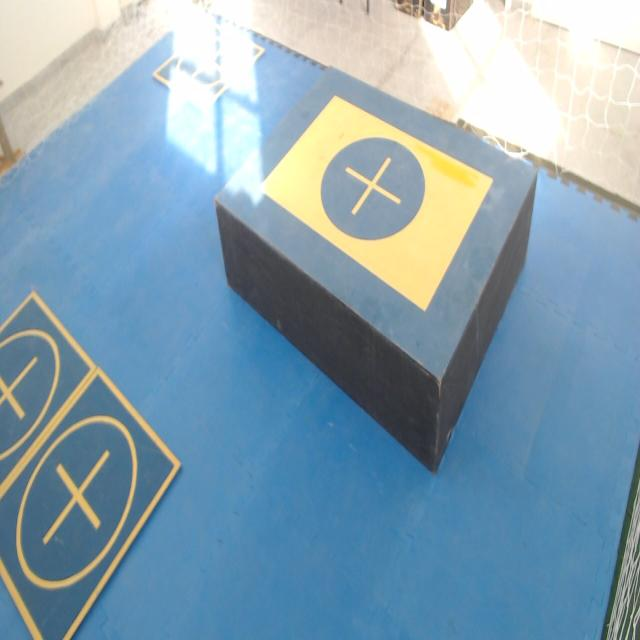base_inicio: (255, 93, 495, 310)
base_pouso: (0, 366, 181, 639), (0, 288, 97, 494), (151, 21, 265, 113)
